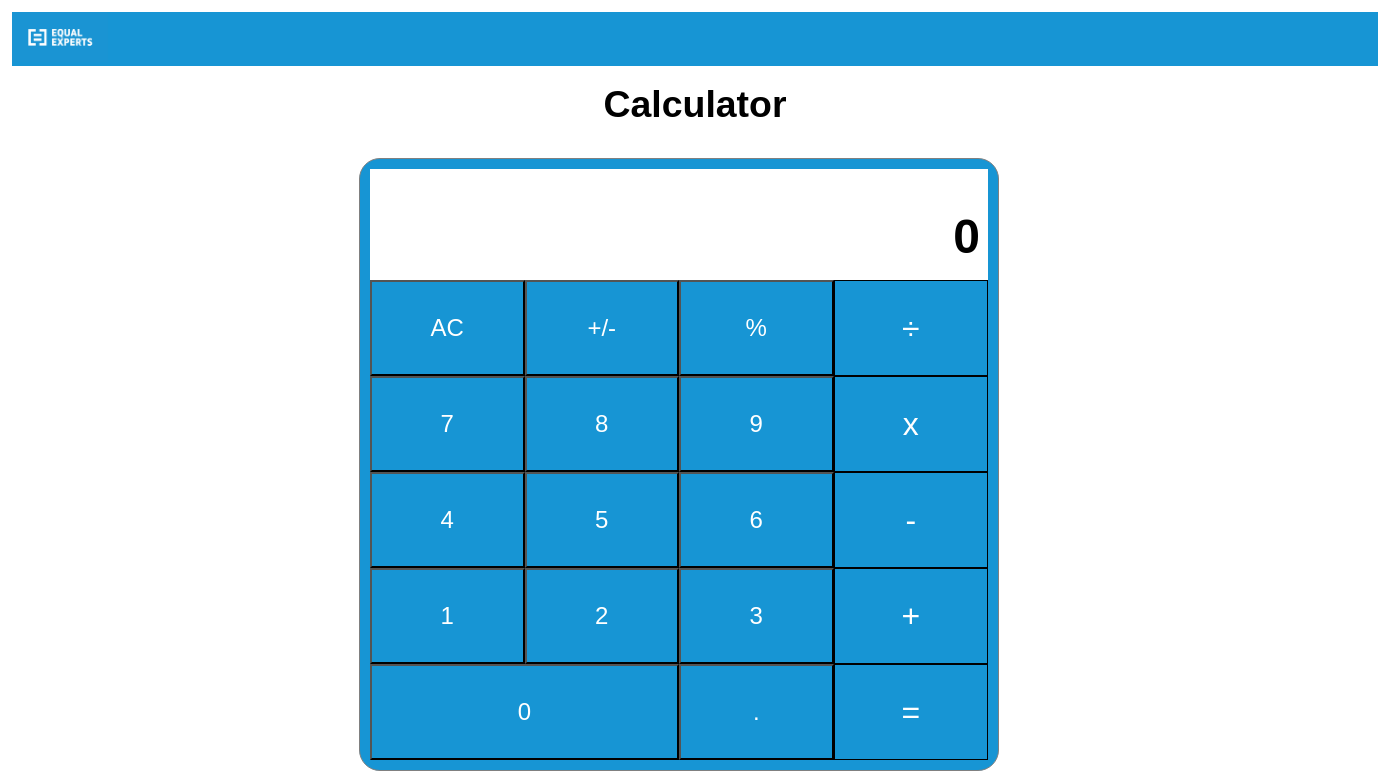
Scenario: Calculation method: 'AC' and '+/-' › Should contain the number -8
Click the button titled "eight" at (602, 424), box [524,376,679,472]
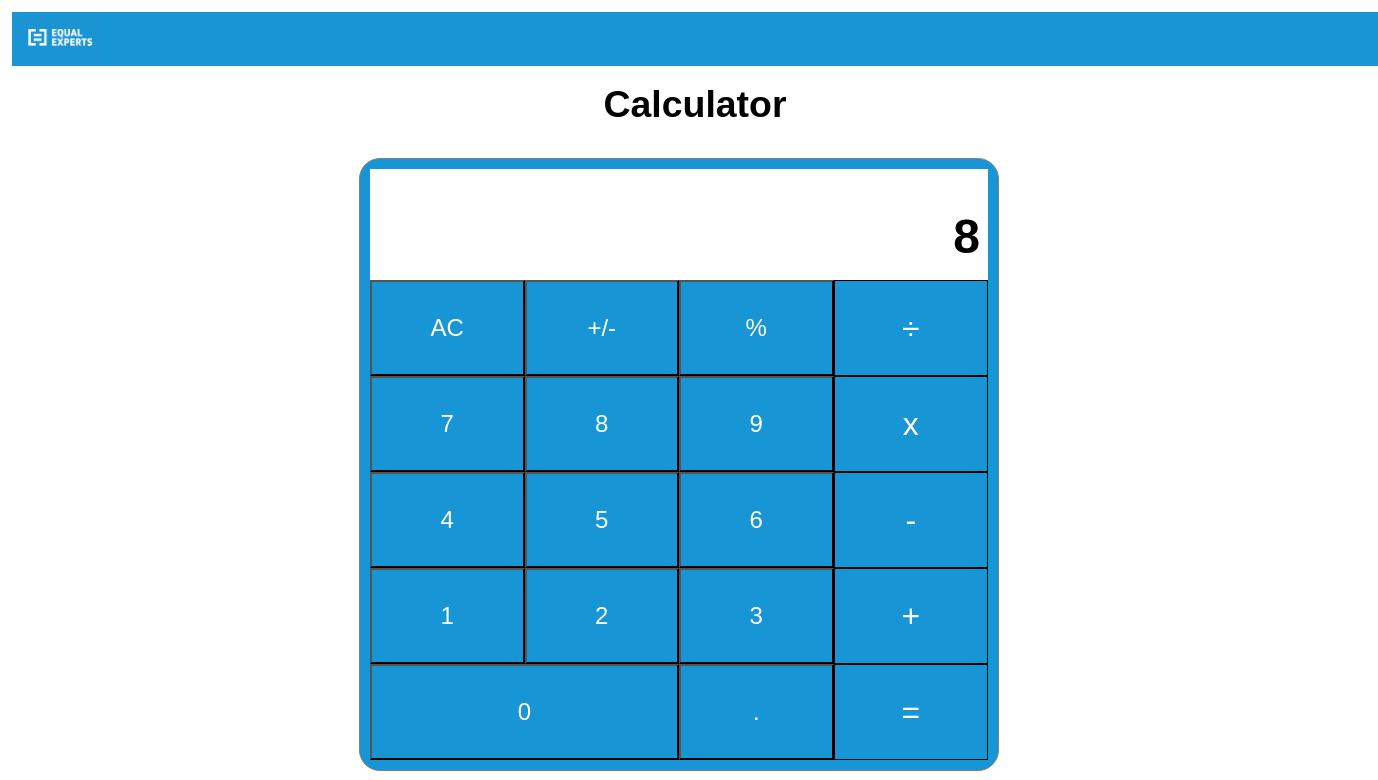
Click the button titled "negative" at (602, 328), box [524,280,679,376]
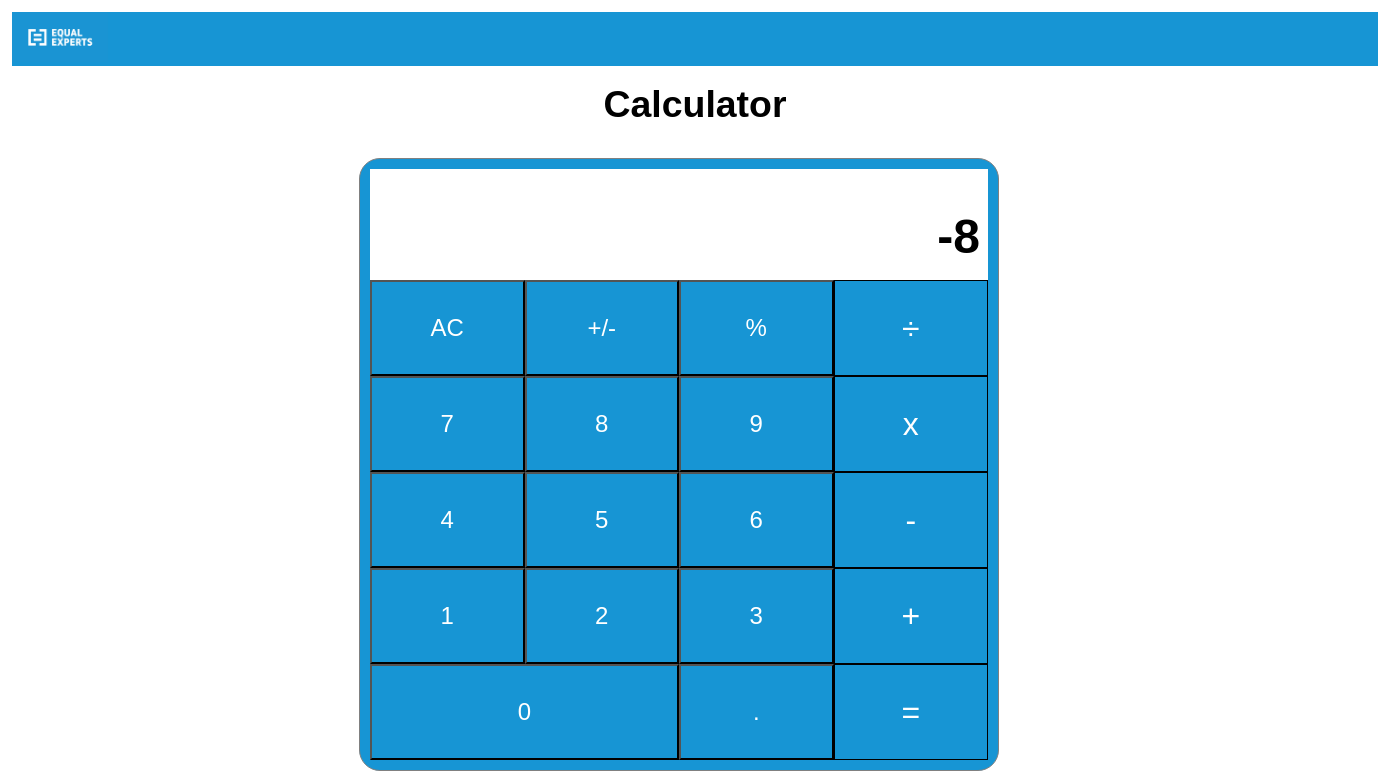
Expected: the text titled "display" reads "-8", [937,210,980,263]
